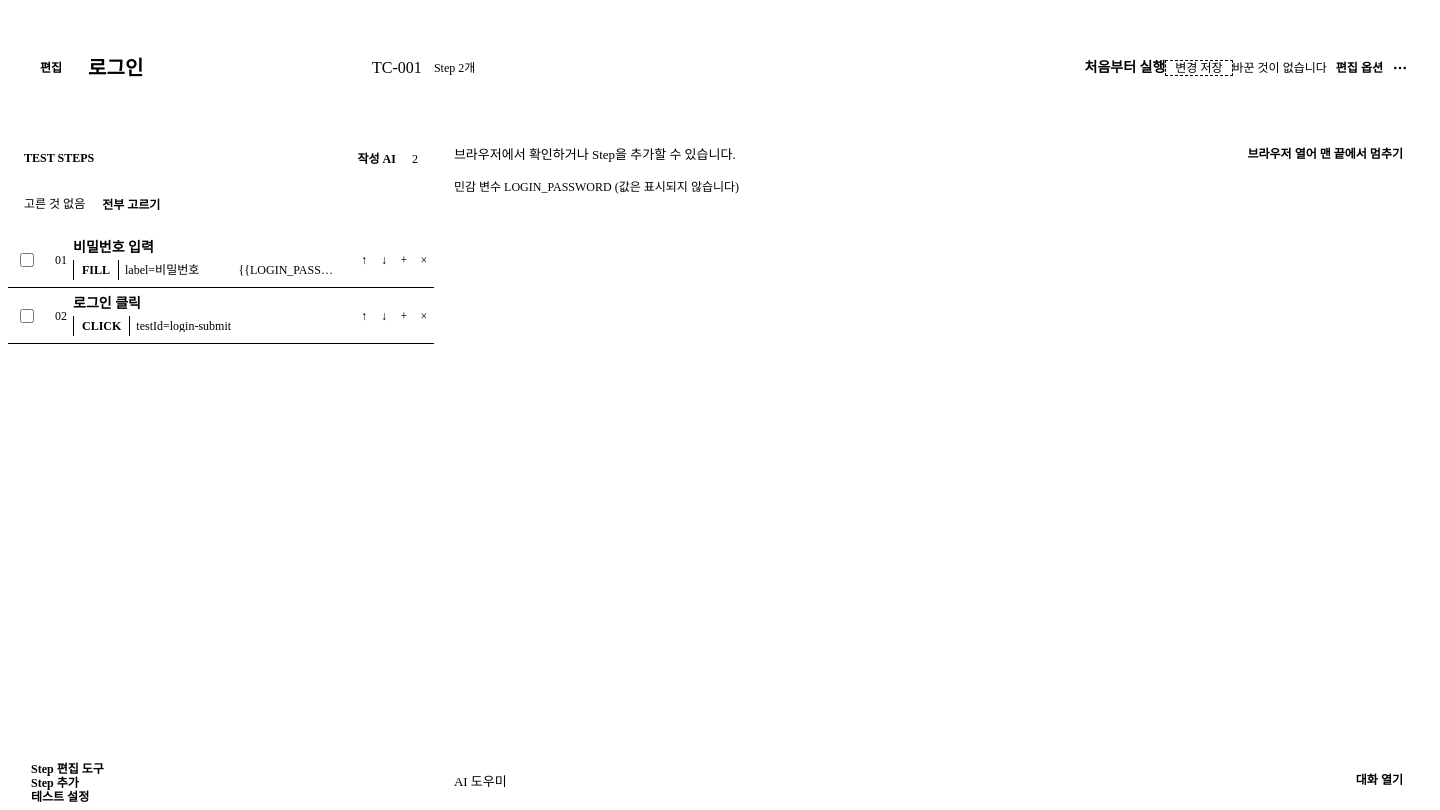
Test: 편집 화면 — 브라우저 없이 (US1) › 민감 참조 값 칸은 읽기 전용이고 이유를 밝힌다 (FR-213)
Click the button "비밀번호 입력" at (113, 248), box [73,239,336,257]
(page scrolled)
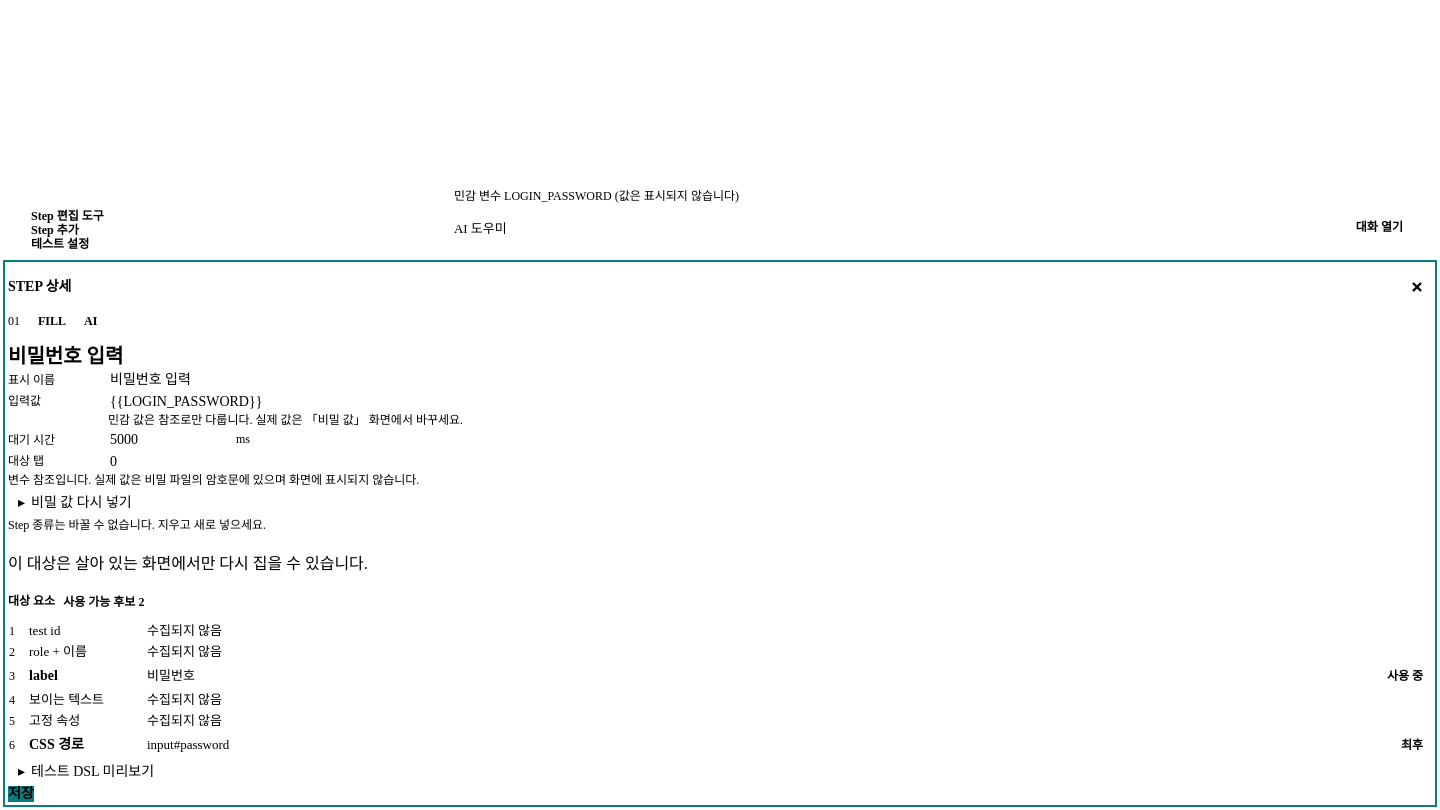
Result: the field named "Step 입력값" is disabled at [100,391,1432,412]
Result: the text "민감 값은 참조로만 다룹니다. 실제 값은 「비밀 값」 화면에서 바꾸세요." is shown at [108,413,463,427]
